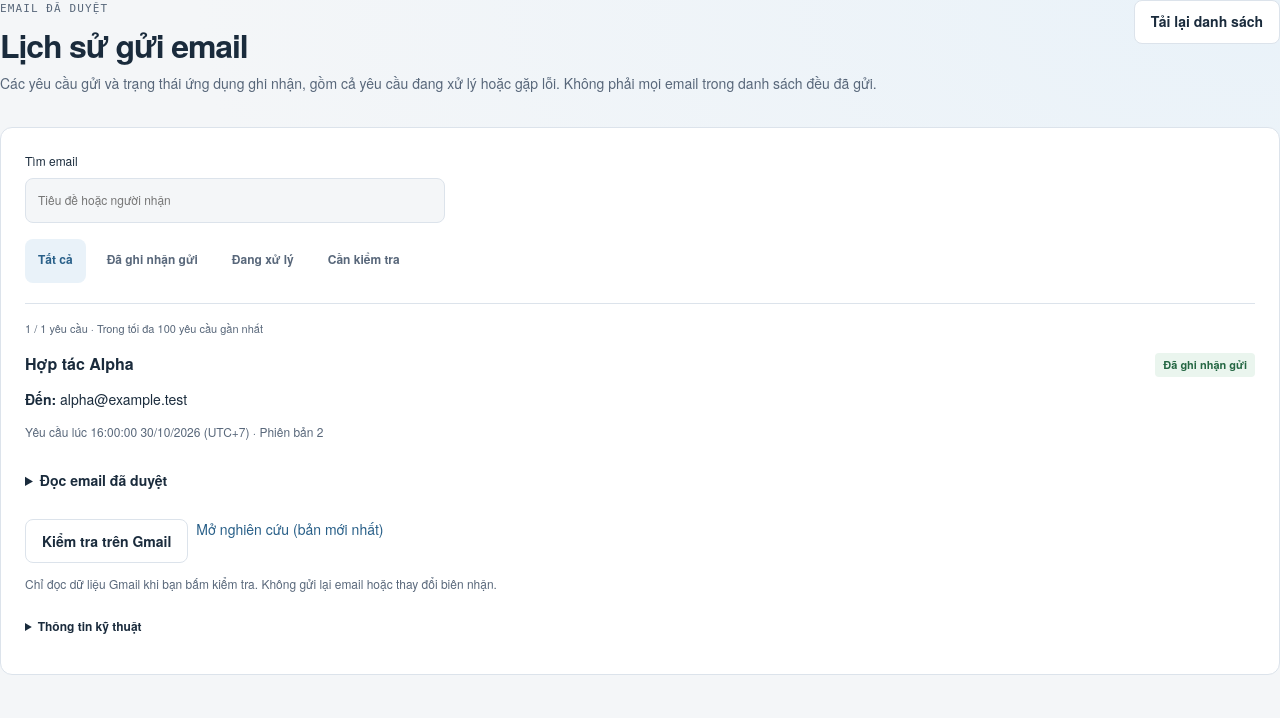
Test case: sent history › discloses approved content and keeps technical identifiers secondary
expect the heading "Hợp tác Alpha" is shown: met, box 25,352 -> 134,375
expect the text "Nội dung được duyệt" is not shown: met
Step 1. Click the heading "Đọc email đã duyệt" → [103, 480], box 40,470 -> 167,490
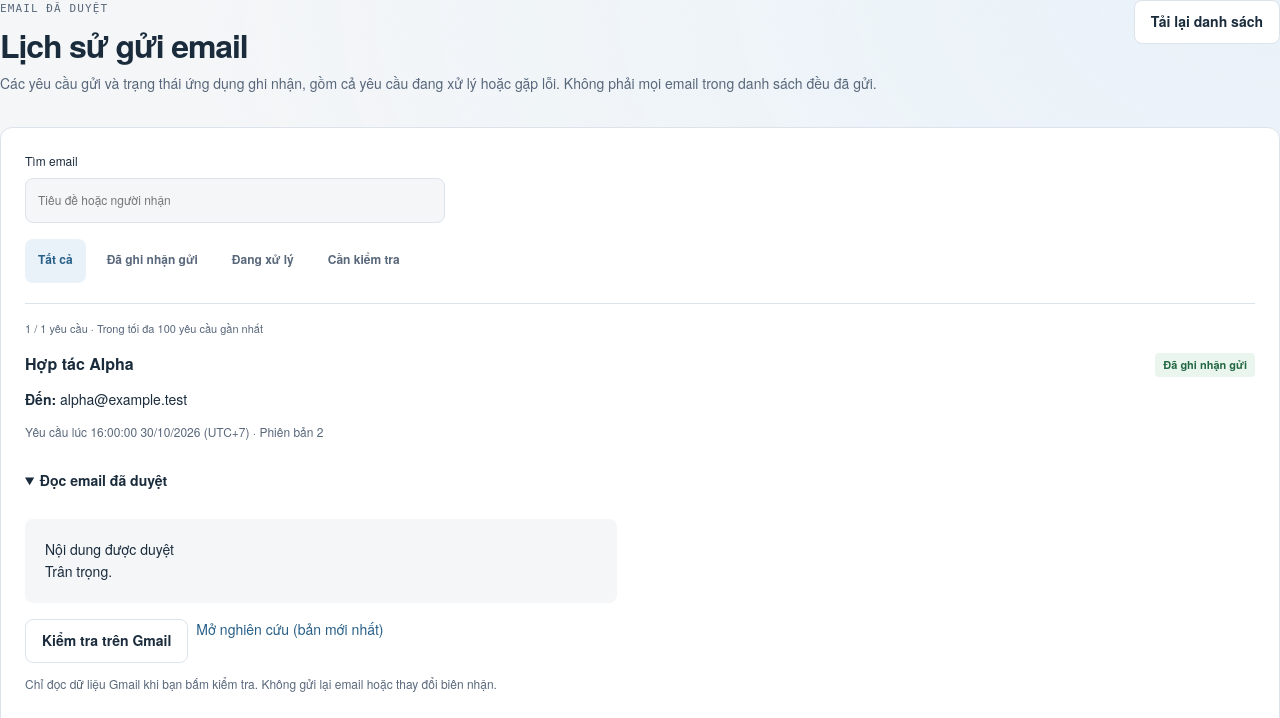
expect the text "Yêu cầu lúc 16:00:00 30/10/2026 (UTC+7) · Phiên bản 2" is shown: met, box 25,423 -> 323,440
expect the text "Nội dung được duyệt Trân trọng." is shown: met, box 25,519 -> 617,603
